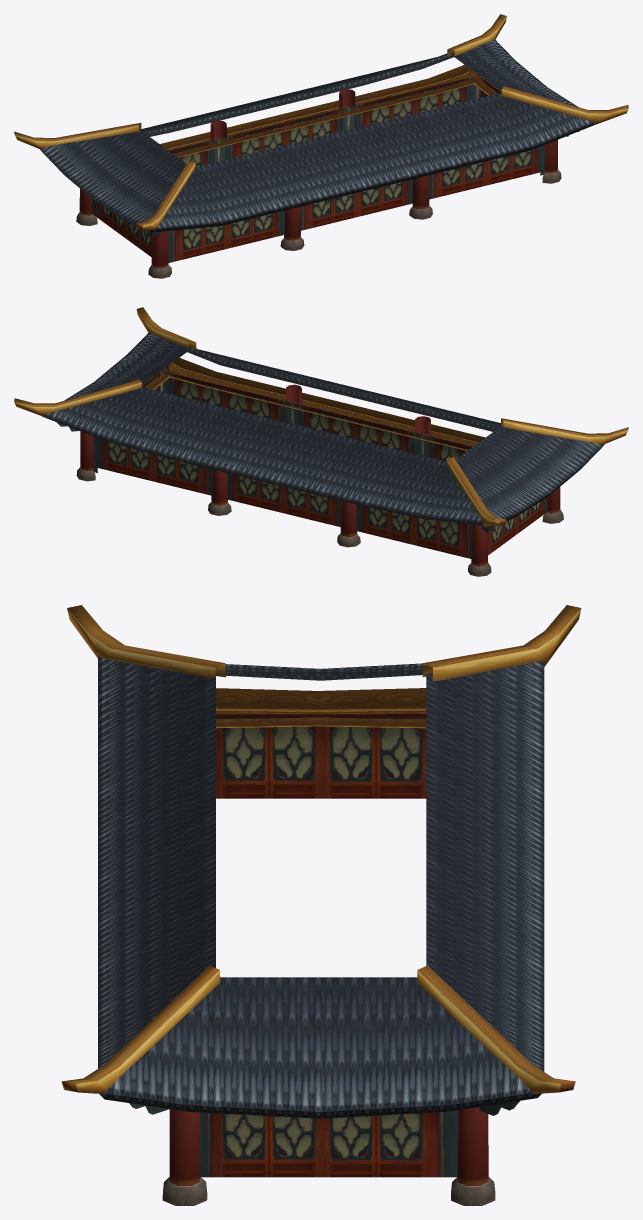
File: environment_Building_Gongdian_001_c.FBX
3 views of the same model, one above another, from view 1: azimuth 30°, elevation 25°; view 2: azimuth 150°, elevation 25°; view 3: azimuth 270°, elevation 25° (orthographic). The views are drawn at different scales.
Visible parts, largest first — view 1: environment_Building_Gongdian_001_c01, environment_Building_Gongdian_001_c04, environment_Building_Gongdian_001_c03, environment_Building_Gongdian_001_c05, environment_Building_Gongdian_001_c02; view 2: environment_Building_Gongdian_001_c01, environment_Building_Gongdian_001_c04, environment_Building_Gongdian_001_c03, environment_Building_Gongdian_001_c05, environment_Building_Gongdian_001_c02; view 3: environment_Building_Gongdian_001_c01, environment_Building_Gongdian_001_c04, environment_Building_Gongdian_001_c02, environment_Building_Gongdian_001_c03, environment_Building_Gongdian_001_c05.
Part boxes in pixels (x1=…): environment_Building_Gongdian_001_c01: x1=39, y1=39, x2=594, y2=232; environment_Building_Gongdian_001_c04: x1=92, y1=76, x2=544, y2=262; environment_Building_Gongdian_001_c03: x1=160, y1=64, x2=501, y2=157; environment_Building_Gongdian_001_c05: x1=76, y1=68, x2=579, y2=278; environment_Building_Gongdian_001_c02: x1=14, y1=14, x2=628, y2=230; environment_Building_Gongdian_001_c01: x1=42, y1=333, x2=604, y2=526; environment_Building_Gongdian_001_c04: x1=93, y1=371, x2=547, y2=558; environment_Building_Gongdian_001_c03: x1=142, y1=357, x2=485, y2=450; environment_Building_Gongdian_001_c05: x1=57, y1=365, x2=563, y2=576; environment_Building_Gongdian_001_c02: x1=14, y1=307, x2=628, y2=526; environment_Building_Gongdian_001_c01: x1=98, y1=657, x2=544, y2=1118; environment_Building_Gongdian_001_c04: x1=200, y1=714, x2=457, y2=1177; environment_Building_Gongdian_001_c02: x1=61, y1=605, x2=581, y2=1094; environment_Building_Gongdian_001_c03: x1=216, y1=688, x2=426, y2=728; environment_Building_Gongdian_001_c05: x1=129, y1=1101, x2=519, y2=1205.
Size of the model in its own units: 1653 by 315 by 758.
5 materials, 5 textured.
